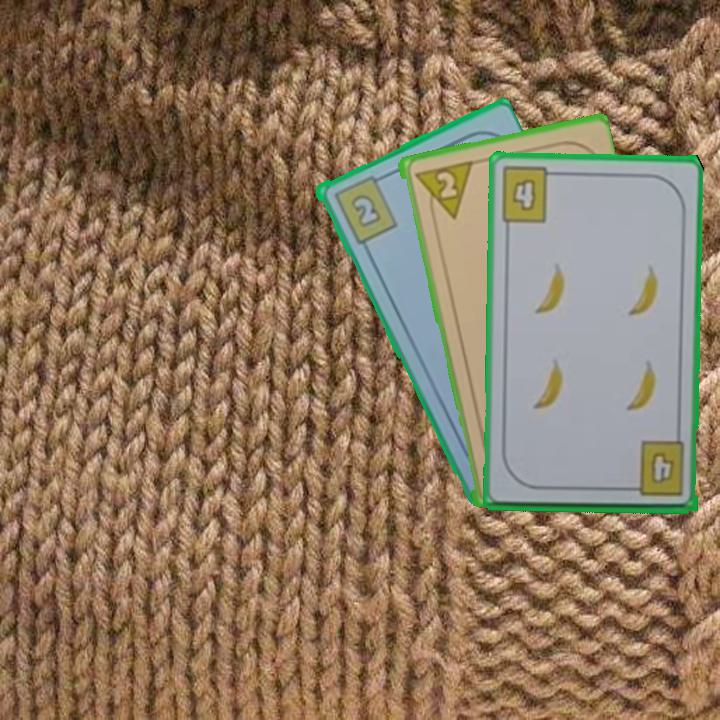2b: (329, 170, 400, 246)
2p: (410, 157, 474, 225)
4b: (623, 438, 687, 500), (497, 164, 562, 225)
